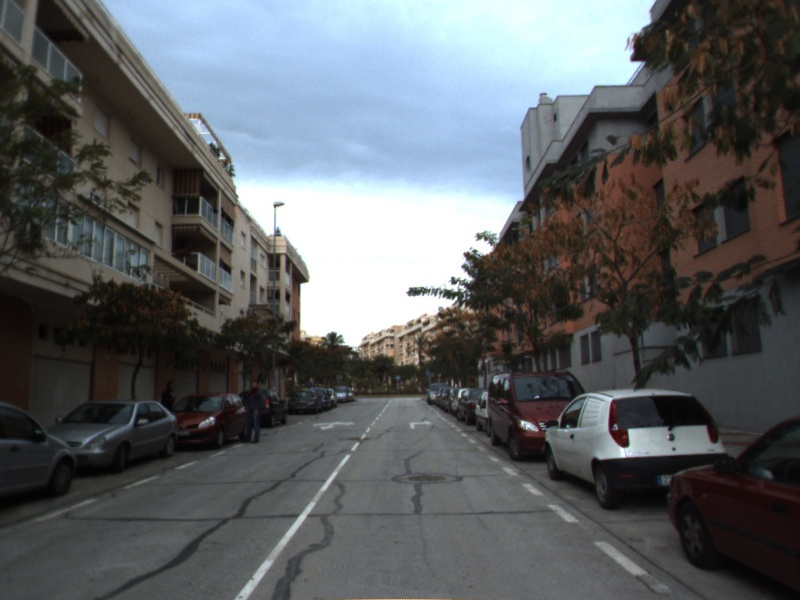RIGHT: (407, 418, 435, 431)
